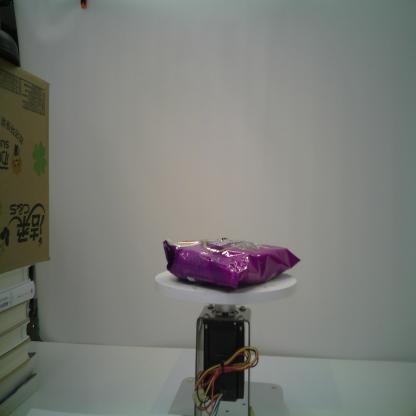Instant Noodles: (160, 238, 301, 291)
